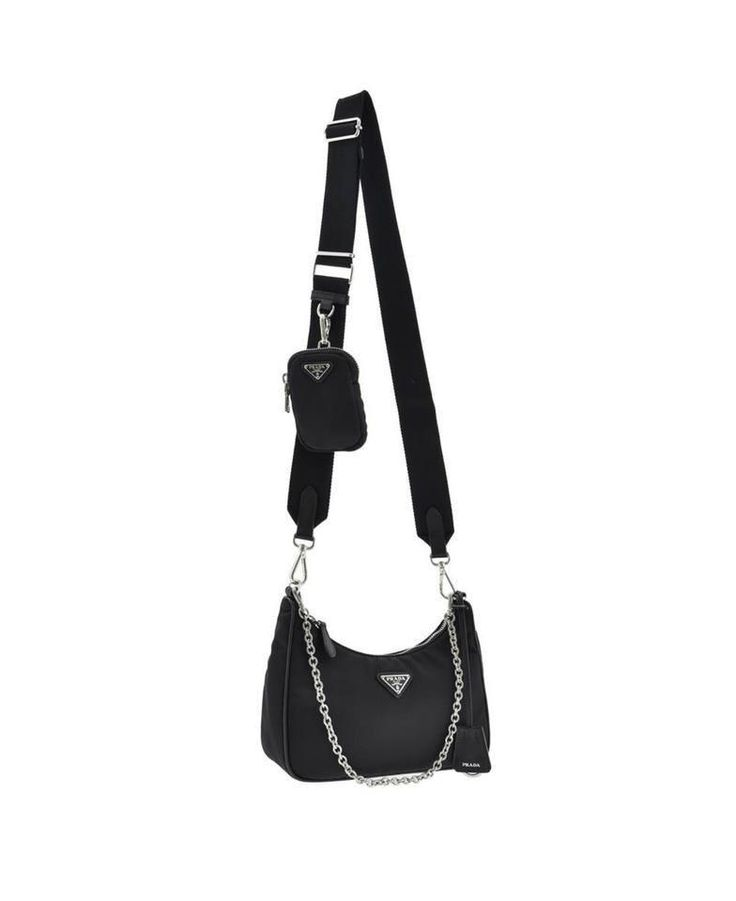nylon: (259, 90, 493, 784)
